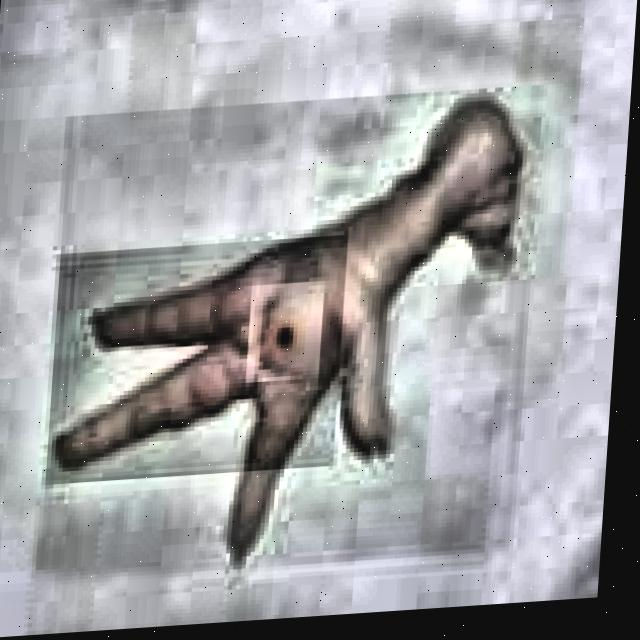Bumble foot: (249, 300, 322, 385)
